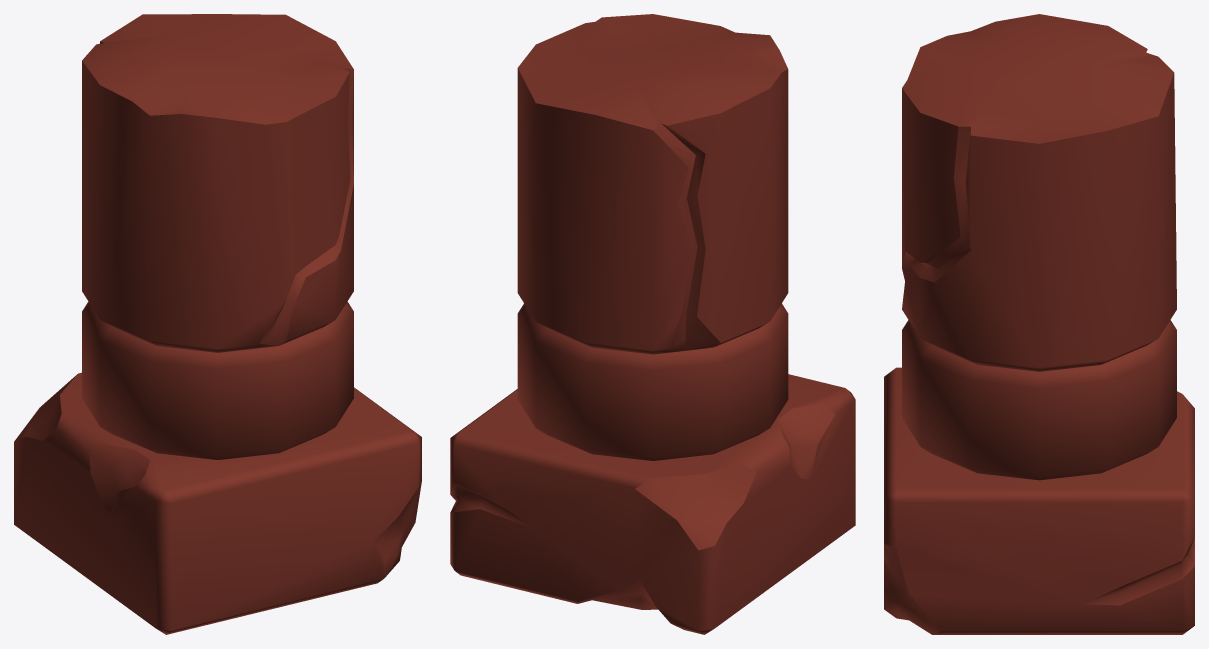
The model's file is column_002.fbx.
3 views of the same model, side by side, from view 1: azimuth 30°, elevation 25°; view 2: azimuth 150°, elevation 25°; view 3: azimuth 270°, elevation 25° (orthographic).
Visible parts, largest first — view 1: column_002; view 2: column_002; view 3: column_002.
Boxes of the visible parts, x1,y1,x2,y2 form: column_002: (14, 14, 421, 634); column_002: (450, 14, 855, 634); column_002: (884, 14, 1194, 634).
Bounding box in the file's own units: 380 × 380 × 683.
